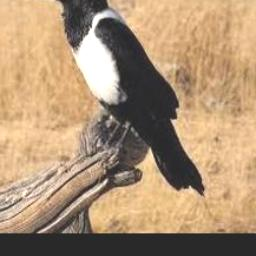Crow: (42, 0, 205, 197)
